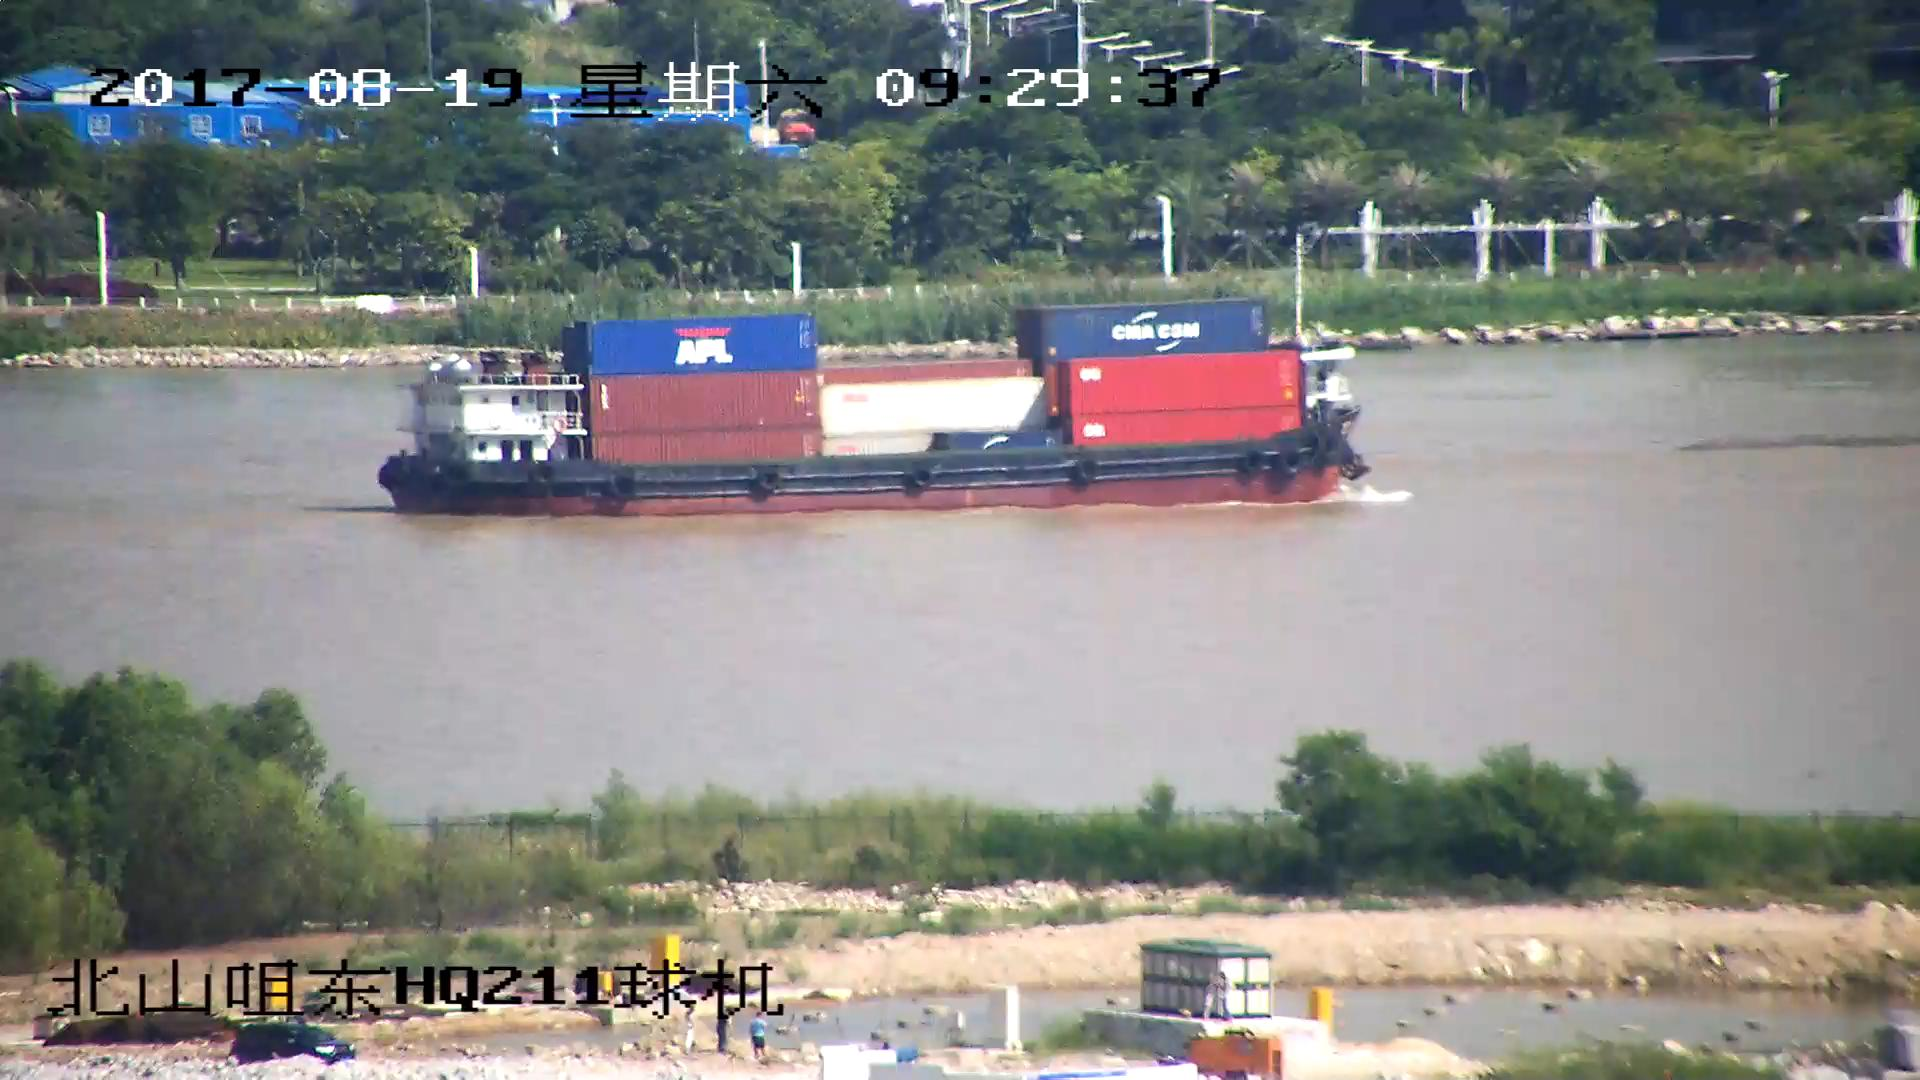container ship: (380, 233, 1378, 516)
